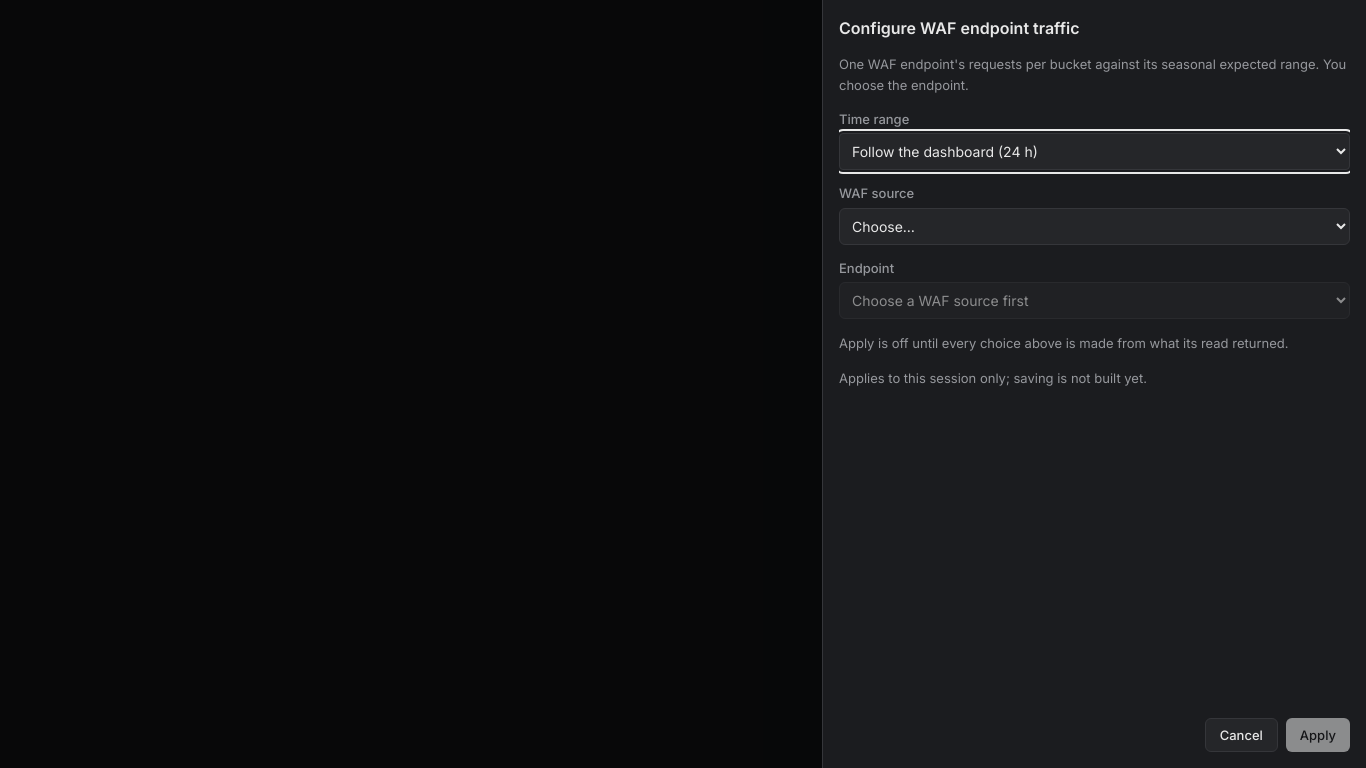
an option source › the endpoint picker waits for a source, then reads that source's endpoints once
Expected: the dropdown labelled "Endpoint" is disabled, [839, 282, 1350, 319]
Expected: the dropdown labelled "Endpoint" shows "Choose a WAF source first", [839, 282, 1350, 319]
Select "waf-a" in the dropdown labelled "WAF source" at (1094, 226), box [839, 208, 1350, 245]
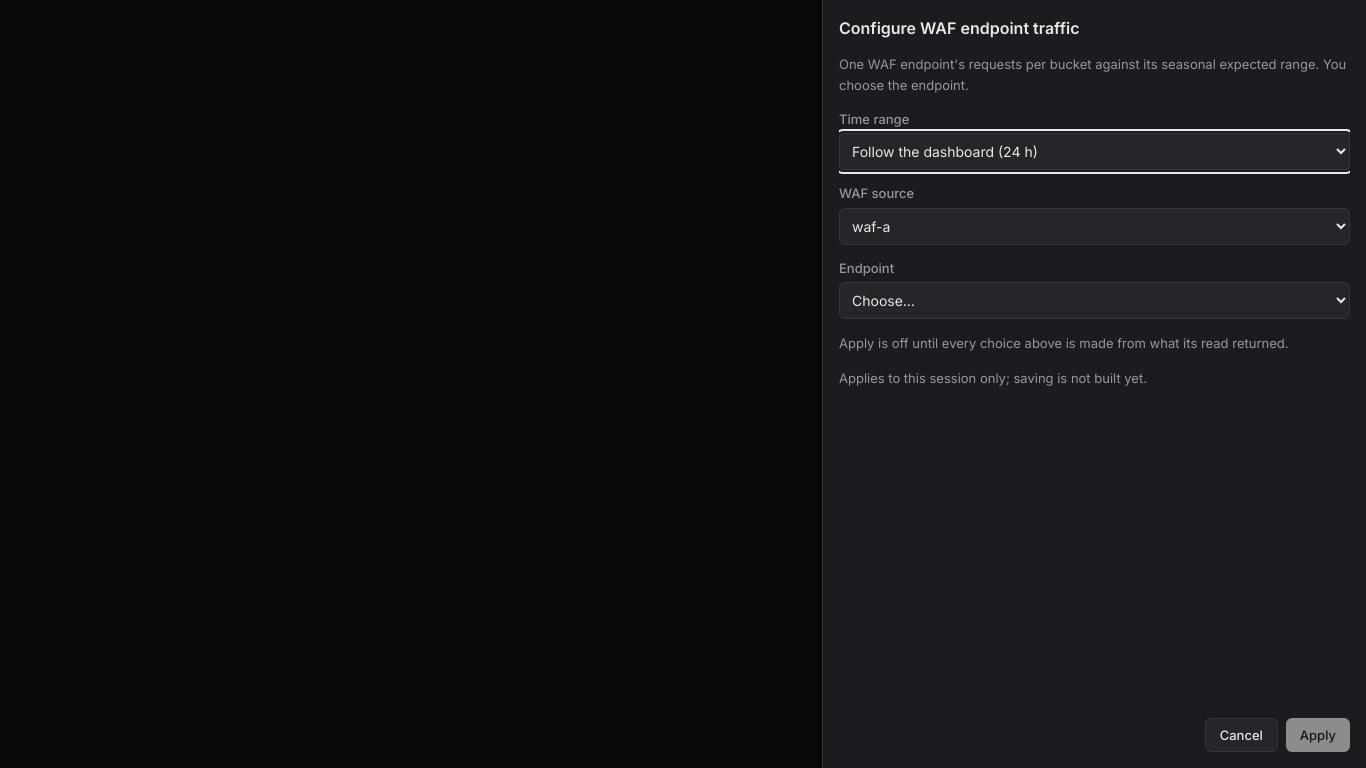
Expected: the dropdown labelled "Endpoint" is enabled, [839, 282, 1350, 319]
